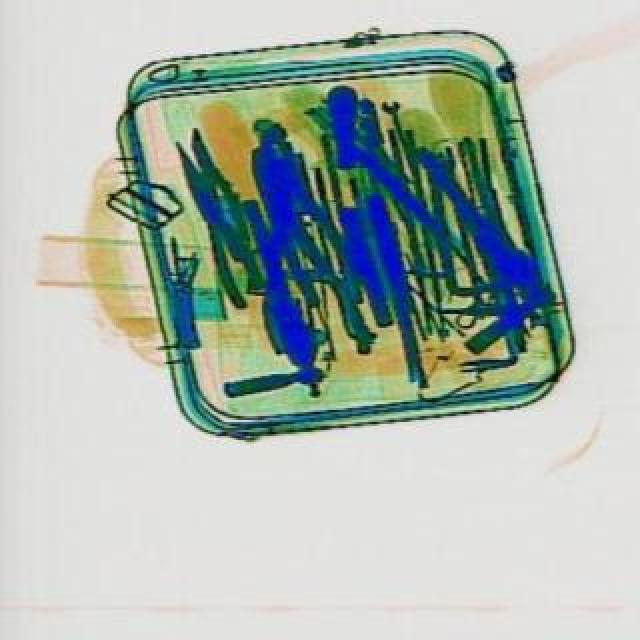scissors: (374, 96, 418, 170)
wrench: (214, 138, 368, 370), (242, 128, 362, 322), (170, 124, 270, 310)
